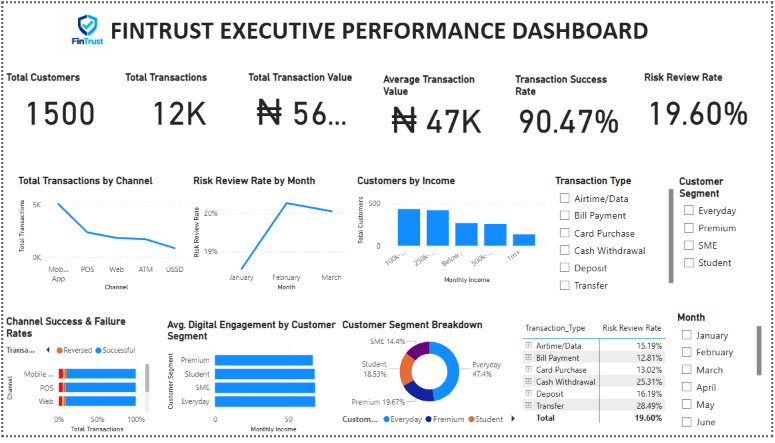

The page's visual inventory and layout, read from the dashboard file:
{"tool":"powerbi","page":{"name":"Page 1","canvas":[1280,720],"ordinal":0},"visuals":[{"type":"card","title":"Total Customers","fields":{"Values":["FinTrust_Customer_Data.Total Customers"]},"box":[0,113.3,187,106],"z":0},{"type":"card","title":"Total Transactions","fields":{"Values":["FinTrust_Customer_Data.Total Transactions"]},"box":[198.3,113.3,186.7,106.7],"z":1},{"type":"card","title":"Transaction Success Rate","fields":{"Values":["FinTrust_Customer_Data.Transaction Success Rate"]},"box":[848.3,116.7,186.7,106.7],"z":2},{"type":"card","title":"Risk Review Rate","fields":{"Values":["FinTrust_Customer_Data.Risk Review Rate"]},"box":[1063.3,113.3,187,106],"z":3},{"type":"card","title":"Total Transaction Value","fields":{"Values":["FinTrust_Customer_Data.Total Transaction Value"]},"box":[403.3,113.3,187,106],"z":4},{"type":"card","title":"Average Transaction Value","fields":{"Values":["FinTrust_Customer_Data.Average Transaction Value"]},"box":[628.3,116.7,186.7,106.7],"z":5},{"type":"lineChart","fields":{"Category":["FinTrust_Transaction_Data.Channel"],"Y":["FinTrust_Customer_Data.Total Transactions"]},"box":[20,285,291.7,198.3],"z":6},{"type":"hundredPercentStackedBarChart","title":"Channel Success & Failure Rates","fields":{"Category":["FinTrust_Transaction_Data.Channel"],"Y":["FinTrust_Customer_Data.Total Transactions"],"Series":["FinTrust_Transaction_Data.Transaction_Status"]},"box":[0,520,248.3,200],"z":7},{"type":"donutChart","title":"Customer Segment Breakdown","fields":{"Y":["FinTrust_Customer_Data.Total Customers"],"Category":["FinTrust_Customer_Data.Customer_Segment"]},"box":[560,525,300,186.7],"z":8},{"type":"clusteredColumnChart","title":"Customers by Income","fields":{"Category":["FinTrust_Customer_Data.Monthly_Income_Band"],"Y":["FinTrust_Customer_Data.Total Customers"]},"box":[585,285,326.7,186.7],"z":9},{"type":"clusteredBarChart","title":"Avg. Digital Engagement by Customer Segment","fields":{"Category":["FinTrust_Customer_Data.Customer_Segment"],"Y":["Avg(FinTrust_Customer_Data.Digital_Engagement_Score)"]},"box":[268.3,525,291.7,195],"z":10},{"type":"pivotTable","fields":{"Rows":["FinTrust_Transaction_Data.Transaction_Type","FinTrust_Transaction_Data.International_Transaction"],"Values":["FinTrust_Customer_Data.Risk Review Rate"]},"box":[860,525,258.3,195],"z":11},{"type":"lineChart","fields":{"Y":["FinTrust_Customer_Data.Risk Review Rate"],"Category":["FinTrust_Transaction_Data.Transaction_DateTime.Variation.Date Hierarchy.Month"]},"box":[311.7,285,270,198.3],"z":12},{"type":"slicer","title":"Transaction Type","fields":{"Values":["FinTrust_Transaction_Data.Transaction_Type"]},"box":[915,285,206.7,198.3],"z":13},{"type":"slicer","title":"Customer Segment","fields":{"Values":["FinTrust_Customer_Data.Customer_Segment"]},"box":[1121.7,286.7,150,198.3],"z":14},{"type":"slicer","title":"Month","fields":{"Values":["FinTrust_Transaction_Data.Transaction_DateTime.Variation.Date Hierarchy.Month"]},"box":[1118.3,513.3,150,198.3],"z":15},{"type":"textbox","box":[71.7,13.3,1165,78.3],"z":16},{"type":"image","box":[81.7,0,116.7,91.7],"z":17}]}

Visuals, with their boxes in screenshot pixels (x1, y1, x2, y2), scaled from the page's 1280x720 canvas onto the 775x443 screenshot:
"Total Customers" card: box(0, 70, 113, 135)
"Total Transactions" card: box(120, 70, 233, 135)
"Transaction Success Rate" card: box(514, 72, 627, 137)
"Risk Review Rate" card: box(644, 70, 757, 135)
"Total Transaction Value" card: box(244, 70, 357, 135)
"Average Transaction Value" card: box(380, 72, 493, 137)
lineChart - FinTrust_Transaction_Data.Channel x FinTrust_Customer_Data.Total Transactions: box(12, 175, 189, 297)
"Channel Success & Failure Rates" hundredPercentStackedBarChart: box(0, 320, 150, 442)
"Customer Segment Breakdown" donutChart: box(339, 323, 521, 438)
"Customers by Income" clusteredColumnChart: box(354, 175, 552, 290)
"Avg. Digital Engagement by Customer Segment" clusteredBarChart: box(162, 323, 339, 442)
pivotTable - FinTrust_Transaction_Data.Transaction_Type x FinTrust_Transaction_Data.International_Transaction: box(521, 323, 677, 442)
lineChart - FinTrust_Customer_Data.Risk Review Rate x FinTrust_Transaction_Data.Transaction_DateTime.Variation.Date Hierarchy.Month: box(189, 175, 352, 297)
"Transaction Type" slicer: box(554, 175, 679, 297)
"Customer Segment" slicer: box(679, 176, 770, 298)
"Month" slicer: box(677, 316, 768, 438)
textbox: box(43, 8, 749, 56)
image: box(49, 0, 120, 56)
